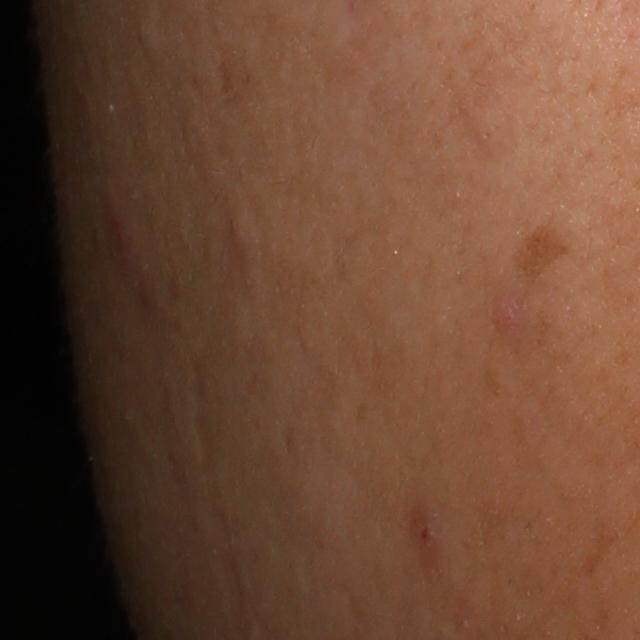comedo: (223, 216, 253, 244)
melasma: (516, 214, 583, 292)
papule: (493, 297, 523, 330), (412, 517, 439, 552)
